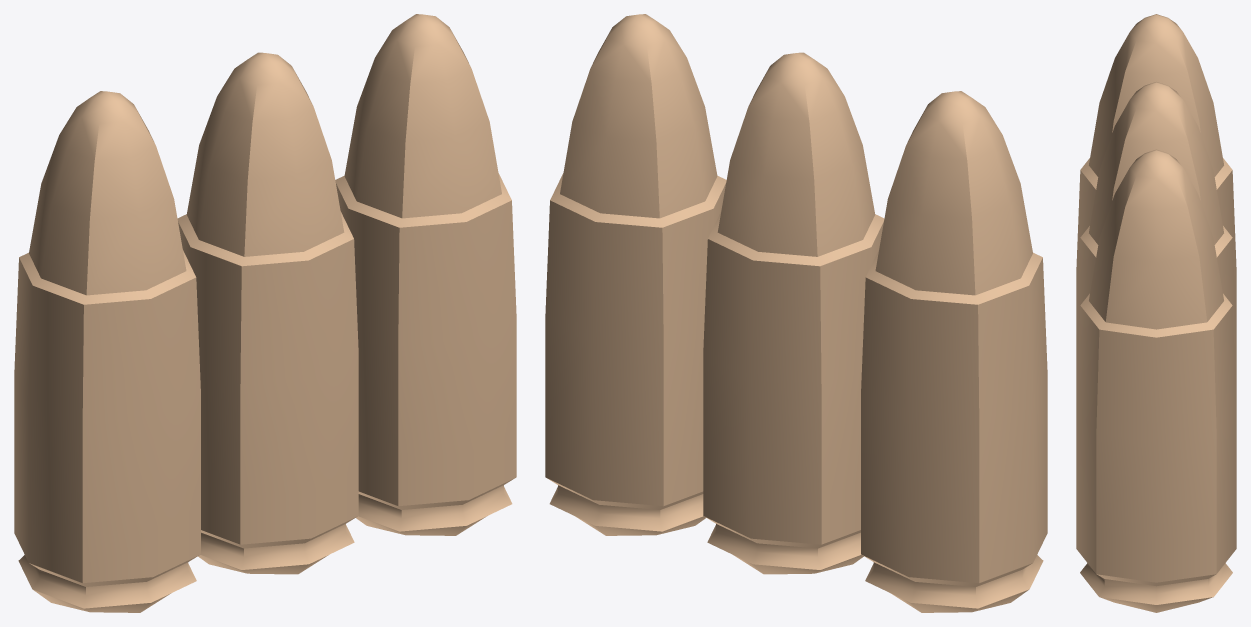
Rendered from quaternius-ultimate-space-pickup-bullets.glb.
3 views of the same model, side by side, from view 1: azimuth 30°, elevation 25°; view 2: azimuth 150°, elevation 25°; view 3: azimuth 270°, elevation 25° (orthographic). The views are drawn at different scales.
Parts seen in each view (by area): view 1: Pickup_Bullets; view 2: Pickup_Bullets; view 3: Pickup_Bullets.
Part boxes in pixels (x1,y1,x2,y2): Pickup_Bullets: [14, 14, 516, 612]; Pickup_Bullets: [545, 14, 1047, 612]; Pickup_Bullets: [1076, 14, 1236, 612].
Bounding box in the file's own units: 0.8284 × 0.8421 × 0.2761.
1 material, 1 textured.
